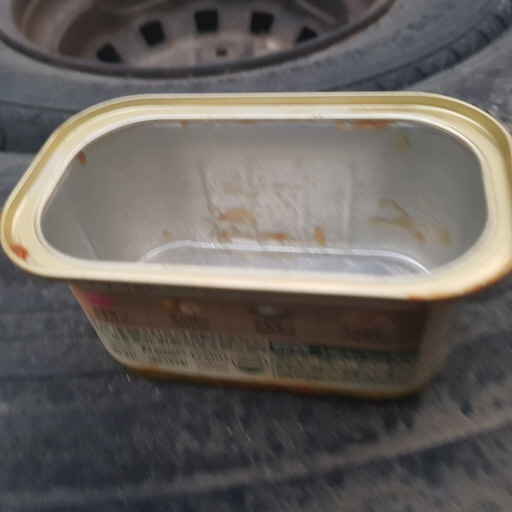Metal_2: (3, 90, 512, 403)
